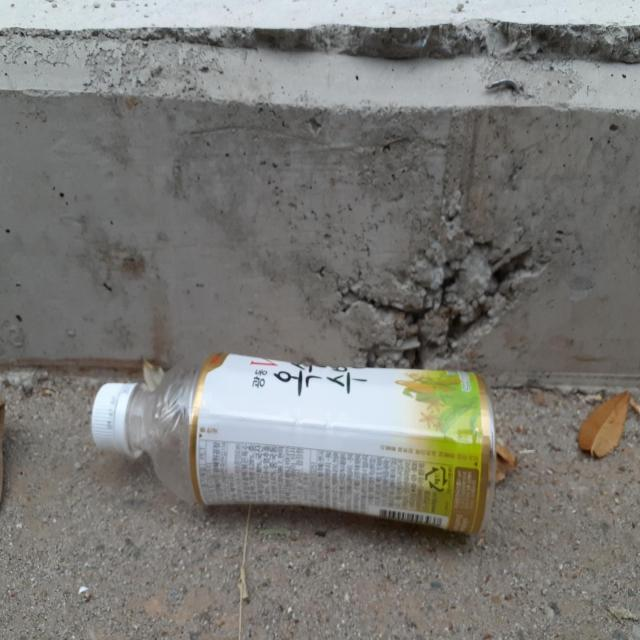plastic: (91, 353, 497, 534)
